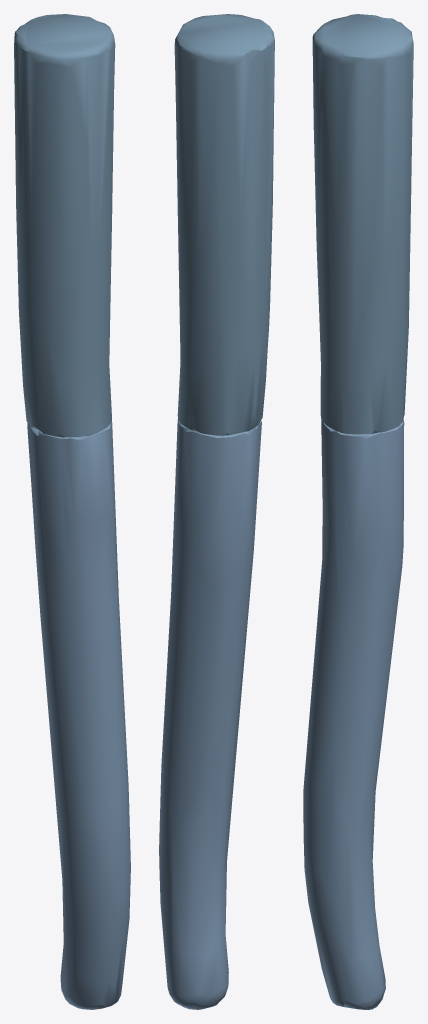
The model's file is inferior-vena-cava.glb.
3 views of the same model, side by side, from view 1: azimuth 30°, elevation 25°; view 2: azimuth 210°, elevation 25°; view 3: azimuth 270°, elevation 25° (orthographic).
Visible parts, largest first — view 1: FJ3659 Inferior vena cava, FJ3441 Inferior vena cava; view 2: FJ3659 Inferior vena cava, FJ3441 Inferior vena cava; view 3: FJ3659 Inferior vena cava, FJ3441 Inferior vena cava.
Part boxes in pixels (x1=…): FJ3659 Inferior vena cava: x1=27, y1=422, x2=130, y2=1009; FJ3441 Inferior vena cava: x1=14, y1=14, x2=115, y2=437; FJ3659 Inferior vena cava: x1=159, y1=419, x2=261, y2=1009; FJ3441 Inferior vena cava: x1=174, y1=14, x2=274, y2=435; FJ3659 Inferior vena cava: x1=303, y1=418, x2=404, y2=1009; FJ3441 Inferior vena cava: x1=312, y1=14, x2=413, y2=434.
Size of the model in its own units: 0.0245 by 0.2395 by 0.0251.
